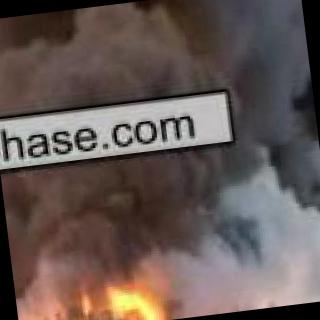fire: (98, 265, 181, 320), (17, 307, 51, 320)
